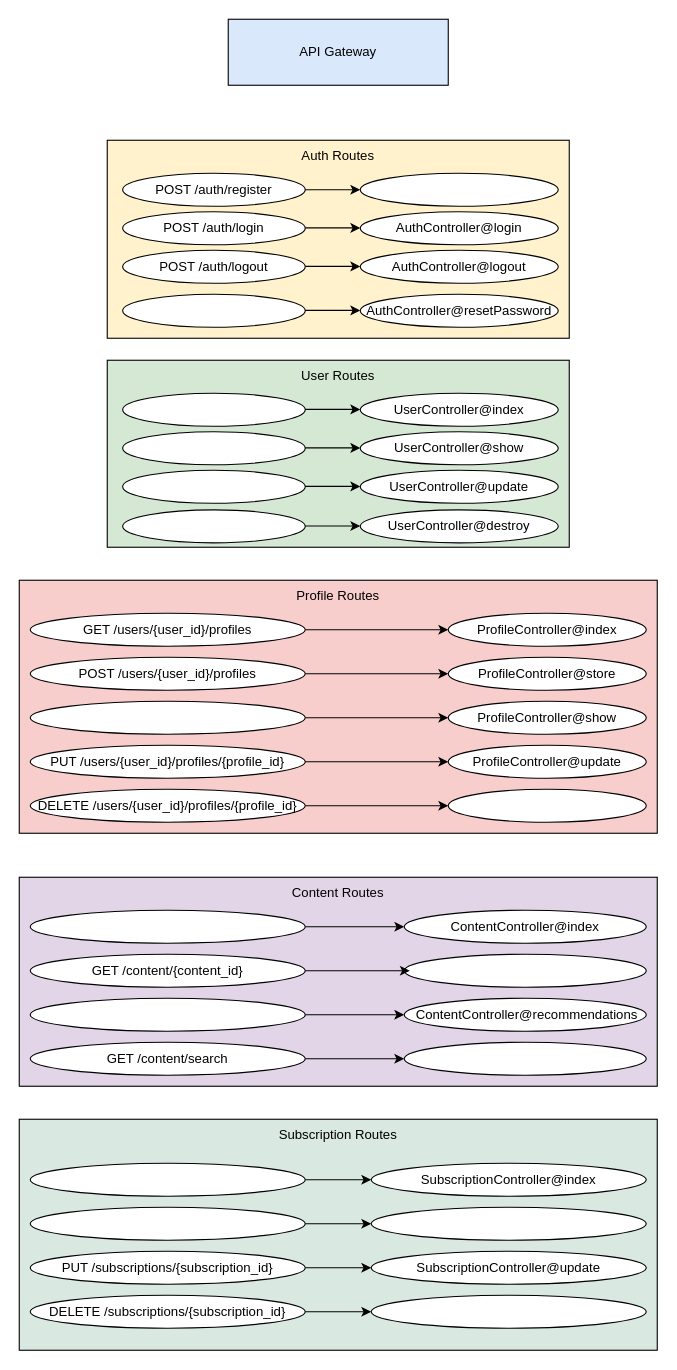
The diagram is 677 pixels wide and 1370 high, and some of its shapes have lost their labels. The centre of each missing label's shape, as x and y in pixels:
"AuthController@register" goes at pixel 458 189.
"ContentController@search" goes at pixel 524 1058.
"ContentController@show" goes at pixel 524 970.
"DELETE /users/{user_id}" goes at pixel 213 526.
"GET /content" goes at pixel 167 926.
"GET /content/recommendations" goes at pixel 167 1014.
"GET /subscriptions" goes at pixel 167 1179.
"GET /users" goes at pixel 213 409.
"GET /users/{user_id}" goes at pixel 213 448.
"GET /users/{user_id}/profiles/{profile_id}" goes at pixel 167 717.
"POST /auth/password-reset" goes at pixel 213 310.
"POST /subscriptions" goes at pixel 167 1223.
"ProfileController@destroy" goes at pixel 546 805.
"PUT /users/{user_id}" goes at pixel 213 486.
"SubscriptionController@destroy" goes at pixel 508 1311.
"SubscriptionController@store" goes at pixel 508 1223.
